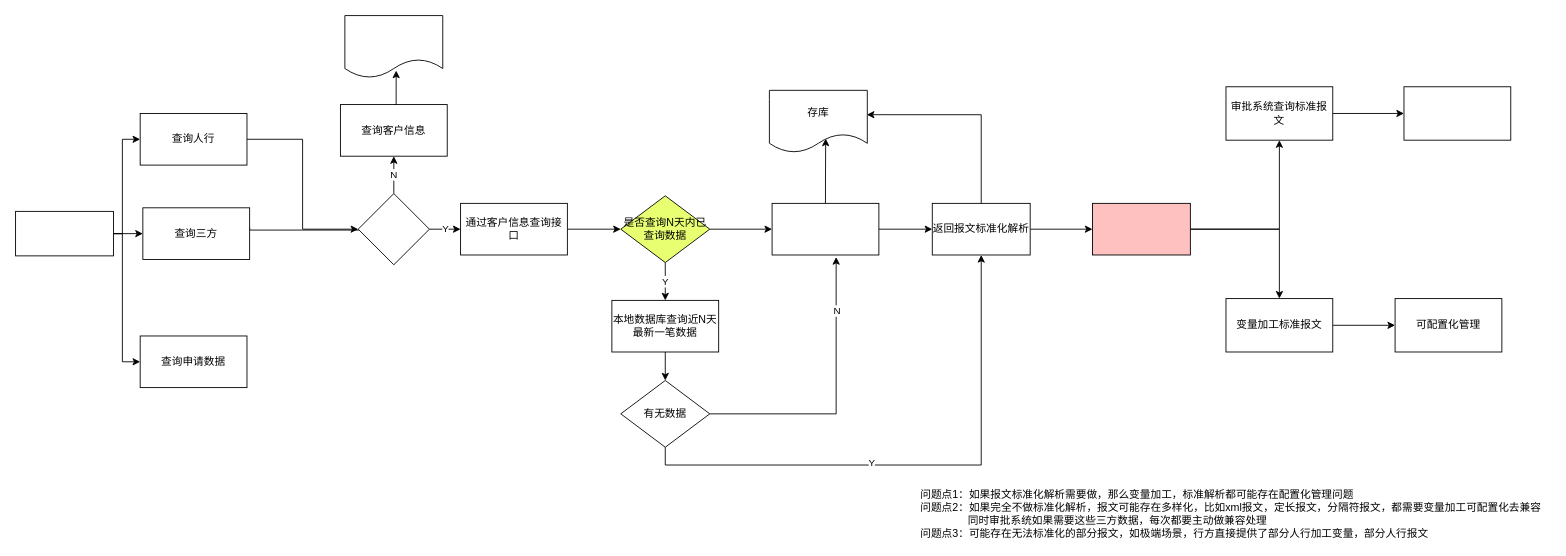
This 1566x556 diagram has some shape labels left out. Each missing label, with the centre of its shape:
前端展示: [1457,113]
实时接口查询: [825,228]
接口查询: [64,233]
是否已有缓存客户信息: [393,229]
缓存N单位时间: [393,46]
返回标准化报文: [1141,228]
